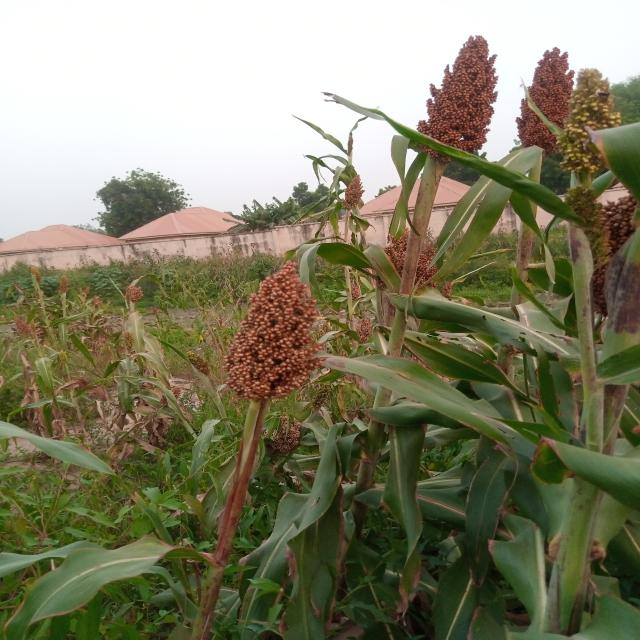RipeSorghum: (210, 257, 345, 414), (410, 26, 510, 185), (519, 38, 562, 159)
